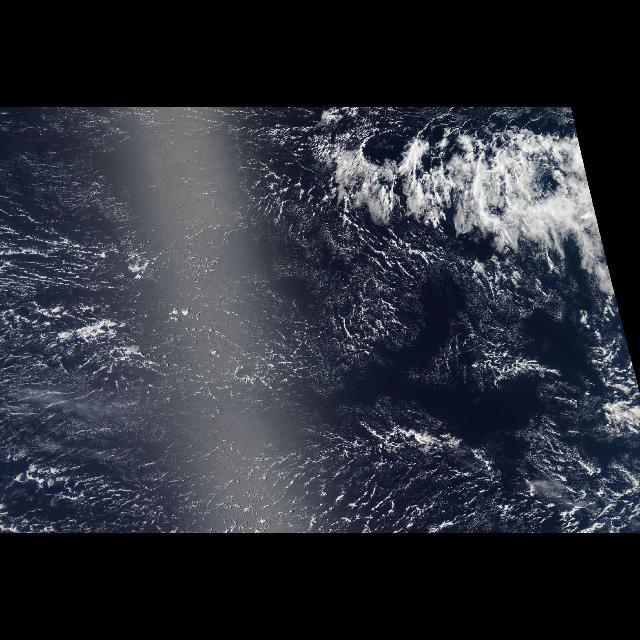Sugar: (1, 111, 573, 529)
